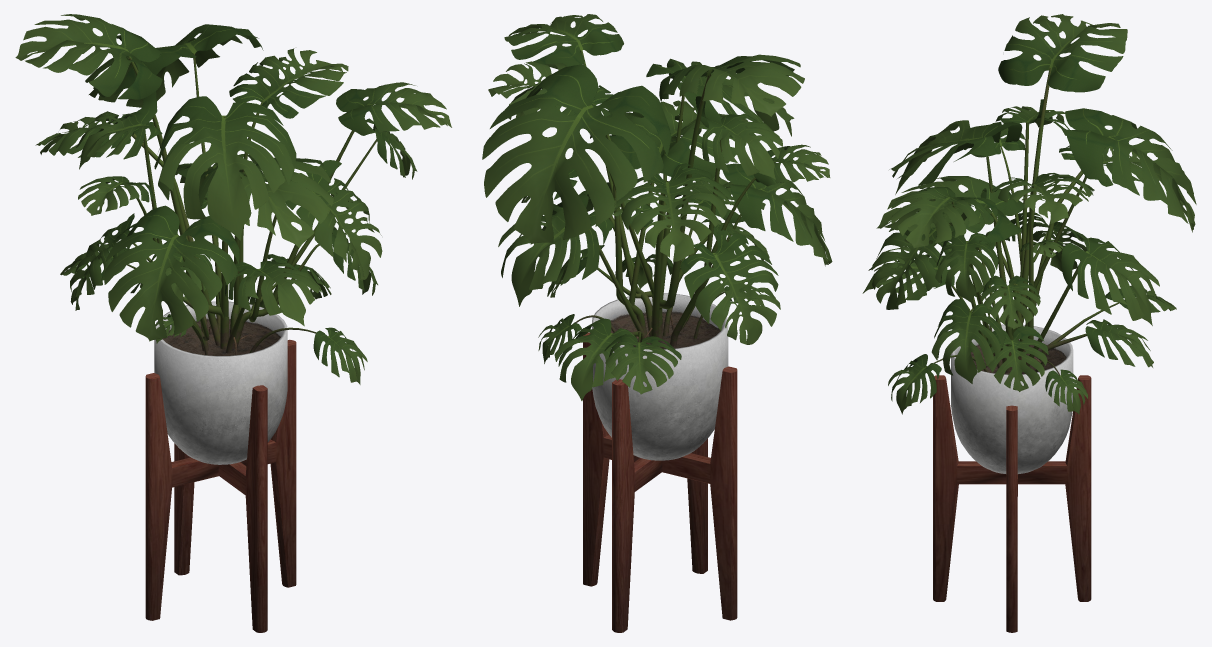
3 views of the same model, side by side, from view 1: azimuth 30°, elevation 25°; view 2: azimuth 150°, elevation 25°; view 3: azimuth 270°, elevation 25° (orthographic). The views are drawn at different scales.
Parts seen in each view (by area): view 1: Leaves, Stand, Pot_LP, root_HP_1_Mat.2_0; view 2: Leaves, Stand, Pot_LP, root_HP_1_Mat.2_0; view 3: Leaves, Stand, Pot_LP, root_HP_1_Mat.2_0.
Boxes of the visible parts, x1,y1,x2,y2 form: Leaves: (15, 14, 451, 384); Stand: (145, 339, 296, 632); Pot_LP: (154, 301, 287, 464); root_HP_1_Mat.2_0: (124, 53, 376, 355); Leaves: (482, 14, 832, 400); Stand: (583, 332, 737, 632); Pot_LP: (592, 293, 728, 460); root_HP_1_Mat.2_0: (559, 50, 755, 346); Leaves: (862, 14, 1196, 414); Stand: (933, 375, 1091, 632); Pot_LP: (951, 324, 1073, 473); root_HP_1_Mat.2_0: (933, 68, 1119, 375).
Size of the model in its own units: 1.01 by 1.58 by 0.9162.
3 materials, 3 textured.
